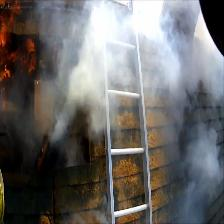smoke: (52, 16, 203, 79), (186, 142, 210, 213)
